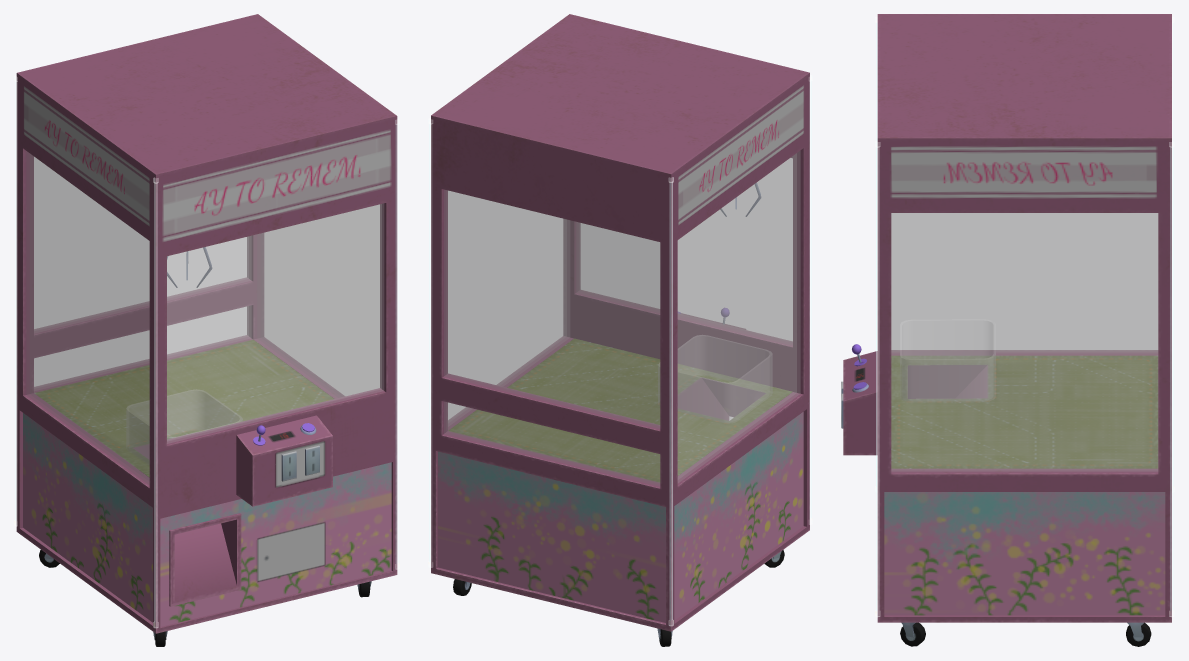
Rendered from clawMachine.glb.
3 views of the same model, side by side, from view 1: azimuth 30°, elevation 25°; view 2: azimuth 150°, elevation 25°; view 3: azimuth 270°, elevation 25° (orthographic). The views are drawn at different scales.
Parts seen in each view (by area): view 1: 1.001; view 2: 1.001; view 3: 1.001.
Boxes of the visible parts, <box> form: 1.001: <box>14,14,399,646</box>; 1.001: <box>428,14,812,646</box>; 1.001: <box>841,14,1174,646</box>.
Size of the model in its own units: 1.12 by 2.13 by 1.25.
Materials: 4 (1 with a texture image).
